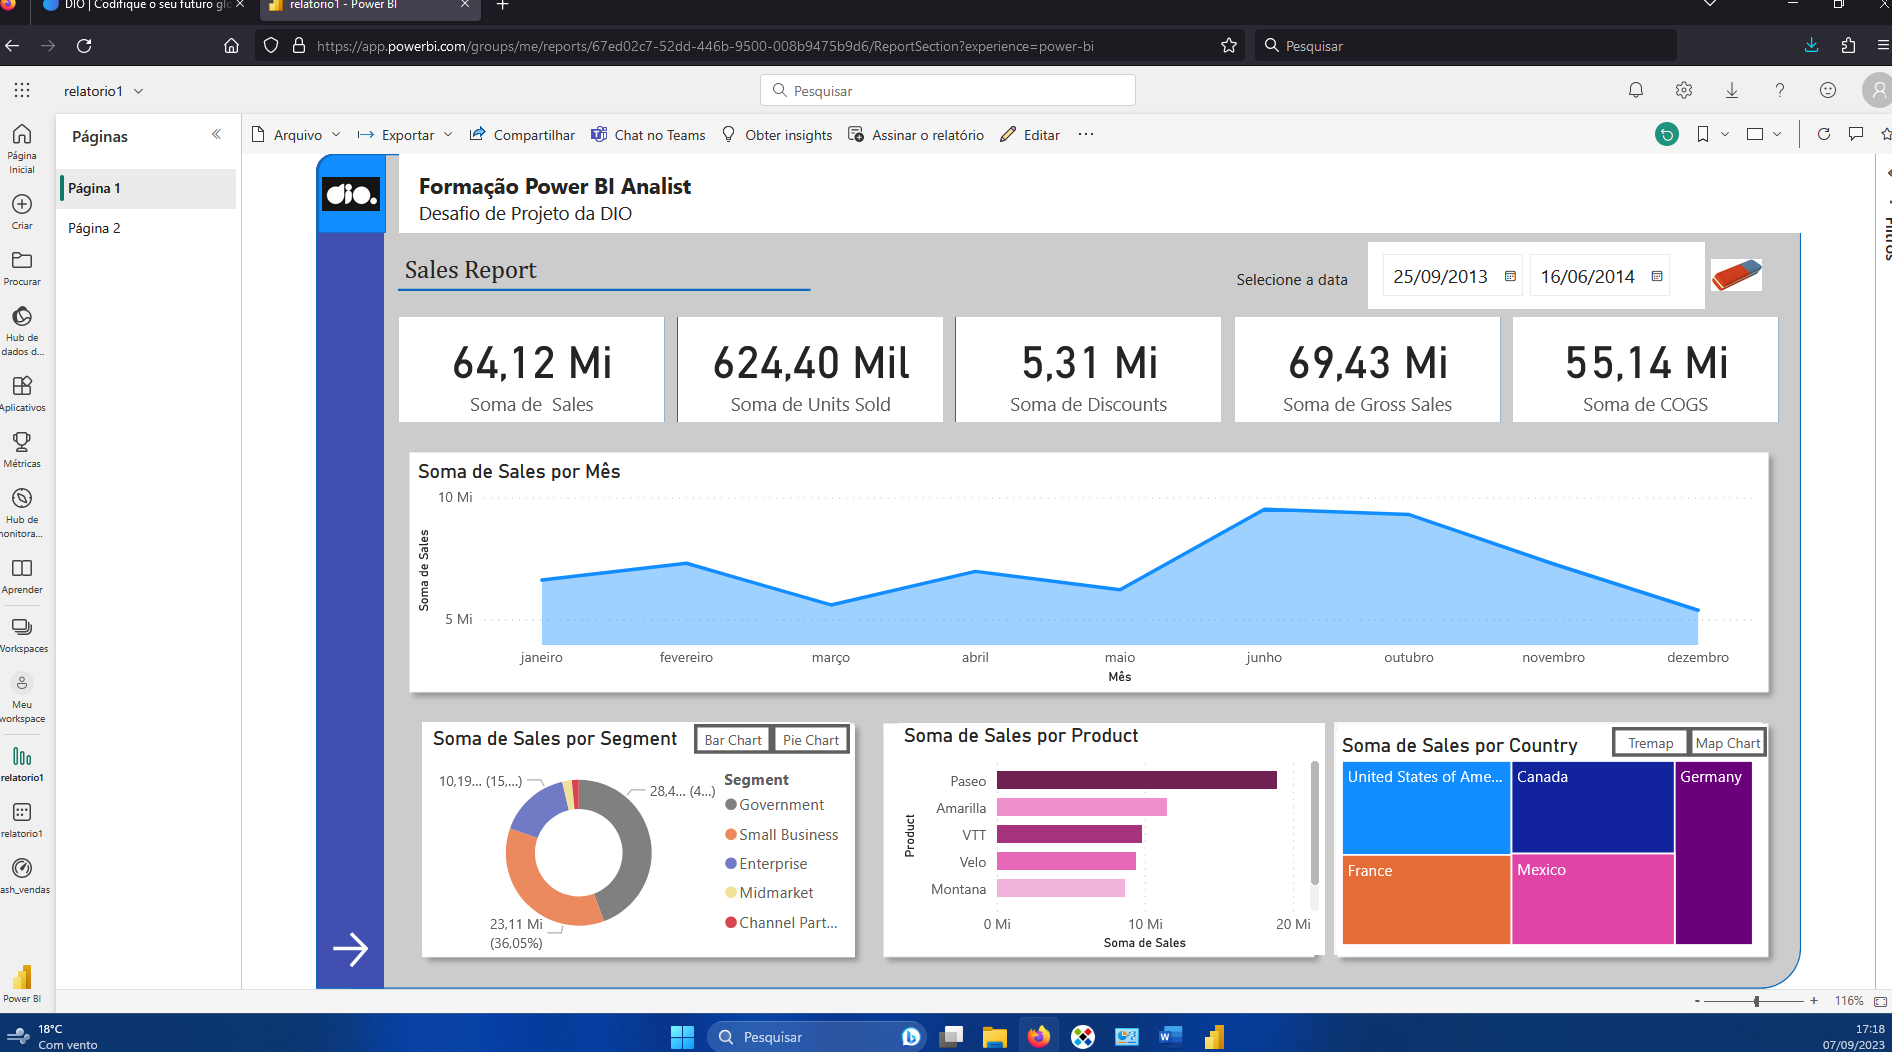

This screenshot's page, from the dashboard's own definition file:
{"tool":"powerbi","page":{"name":"Página 1","canvas":[1280,720],"ordinal":0},"visuals":[{"type":"shape","box":[0,0,1280.6,719.8],"z":0},{"type":"image","title":"logo_dio","box":[0,0,60.3,68.6],"z":0,"group":"g1"},{"type":"card","fields":{"Values":["Sum(financials. Sales)"]},"box":[70.9,140.6,228.6,90.5],"z":0,"group":"g4"},{"type":"clusteredBarChart","fields":{"Y":["Sum(financials. Sales)"],"Category":["financials.Segment"]},"box":[91.7,489.7,369.4,190.1],"z":0,"group":"g2"},{"type":"image","title":"borracha","box":[1198,73.3,53.8,62.3],"z":1000,"group":"g1"},{"type":"card","fields":{"Values":["Sum(financials.Units Sold)"]},"box":[311.7,140.6,228.6,90.5],"z":1000,"group":"g4"},{"type":"donutChart","title":"Soma de  Sales por Segment","fields":{"Category":["financials.Segment"],"Y":["Sum(financials. Sales)"]},"box":[91.7,491.4,369.2,200.5],"z":1000},{"type":"donutChart","fields":{"Category":["financials.Segment"],"Y":["Sum(financials. Sales)"]},"box":[96.2,493.3,369.4,199.3],"z":1000,"group":"g2"},{"type":"treemap","fields":{"Group":["financials.Country"],"Values":["Sum(financials. Sales)"]},"box":[879.9,499.1,364.2,187.7],"z":1000,"group":"g3"},{"type":"actionButton","box":[1117.2,493.9,67.2,25.7],"z":1250,"group":"g3"},{"type":"actionButton","box":[393.6,491.4,67.2,25.7],"z":1500,"group":"g2"},{"type":"actionButton","box":[1184.5,493.9,67.2,25.7],"z":1500,"group":"g3"},{"type":"shape","box":[0,0,59,719.8],"z":2000},{"type":"slicer","fields":{"Values":["financials.Date"]},"box":[907,75.8,290.9,57.5],"z":2000,"group":"g1"},{"type":"card","fields":{"Values":["Sum(financials.Discounts)"]},"box":[551.3,140.6,228.6,90.5],"z":2000,"group":"g4"},{"type":"actionButton","box":[326.3,491.4,67.2,25.7],"z":2000,"group":"g2"},{"type":"actionButton","box":[1200.4,73.3,51.3,57.5],"z":3000,"group":"g1"},{"type":"card","fields":{"Values":["Sum(financials.Gross Sales)"]},"box":[792.1,140.6,228.6,90.5],"z":3000,"group":"g4"},{"type":"map","fields":{"Category":["financials.Country"],"Size":["Sum(financials. Sales)"]},"box":[877.7,490.2,369.2,200.5],"z":3000},{"type":"shape","box":[1.4,0,59,68.6],"z":4000},{"type":"card","fields":{"Values":["Sum(financials.COGS)"]},"box":[1031.7,140.6,228.6,90.5],"z":4000,"group":"g4"},{"type":"shape","box":[71.3,0,1209.3,68.6],"z":5000},{"type":"textbox","box":[83.6,9.6,889.8,59],"z":6000},{"type":"shape","box":[71.3,140.2,229,90.5],"z":7000},{"type":"shape","box":[311.2,140.2,229,90.5],"z":8000},{"type":"shape","box":[551.2,140.2,229,90.5],"z":9000},{"type":"shape","box":[792.5,140.2,229,90.5],"z":10000},{"type":"shape","box":[1032.4,140.2,229,90.5],"z":11000},{"type":"textbox","box":[71.3,82.3,682.8,43.9],"z":12000},{"type":"shape","box":[70.9,94.1,355.7,46.5],"z":13000},{"type":"shape","box":[71.3,248.2,1190.1,224.9],"z":14000},{"type":"shape","box":[83.7,481.8,389.8,219.6],"z":15000},{"type":"shape","box":[480.4,481.8,389.8,219.6],"z":16000},{"type":"shape","box":[871.5,481.8,389.8,219.6],"z":17000},{"type":"areaChart","fields":{"Category":["financials.Date.Variation.Hierarquia de datas.Mês"],"Y":["Sum(financials. Sales)"]},"box":[83.1,262.8,1163.7,198],"z":18000},{"type":"clusteredBarChart","fields":{"Y":["Sum(financials. Sales)"],"Category":["financials.Product"]},"box":[501.8,490.7,368.4,200.2],"z":19000},{"type":"textbox","box":[640.5,94.1,254.3,31.8],"z":20000},{"type":"group","id":"g1","title":"filtro_por_data","box":[0,0,1251.7,135.7],"z":21000},{"type":"group","id":"g2","title":"sales-Segment","box":[91.7,489.7,373.9,203],"z":22000},{"type":"group","id":"g3","title":"salesCountry","box":[878.8,493.9,372.9,192.9],"z":23000},{"type":"group","id":"g4","title":"cartoes","box":[8.3,140.6,1252,565.6],"z":24000},{"type":"actionButton","box":[8.3,665.9,100.1,40.3],"z":24001,"group":"g4"}]}

Visuals, with their boxes on the page's 1280x720 design canvas (x1, y1, x2, y2). These are canvas units, not pixel positions in the 1892x1052 screenshot, which may show the page scaled, cropped or inside an application window:
shape: locate(0, 0, 1281, 720)
"logo_dio" image: locate(0, 0, 60, 69)
card - Sum(financials. Sales): locate(71, 141, 300, 231)
clusteredBarChart - Sum(financials. Sales) x financials.Segment: locate(92, 490, 461, 680)
"borracha" image: locate(1198, 73, 1252, 136)
card - Sum(financials.Units Sold): locate(312, 141, 540, 231)
"Soma de  Sales por Segment" donutChart: locate(92, 491, 461, 692)
donutChart - financials.Segment x Sum(financials. Sales): locate(96, 493, 466, 693)
treemap - financials.Country x Sum(financials. Sales): locate(880, 499, 1244, 687)
actionButton: locate(1117, 494, 1184, 520)
actionButton: locate(394, 491, 461, 517)
actionButton: locate(1184, 494, 1252, 520)
shape: locate(0, 0, 59, 720)
slicer - financials.Date: locate(907, 76, 1198, 133)
card - Sum(financials.Discounts): locate(551, 141, 780, 231)
actionButton: locate(326, 491, 394, 517)
actionButton: locate(1200, 73, 1252, 131)
card - Sum(financials.Gross Sales): locate(792, 141, 1021, 231)
map - financials.Country x Sum(financials. Sales): locate(878, 490, 1247, 691)
shape: locate(1, 0, 60, 69)
card - Sum(financials.COGS): locate(1032, 141, 1260, 231)
shape: locate(71, 0, 1281, 69)
textbox: locate(84, 10, 973, 69)
shape: locate(71, 140, 300, 231)
shape: locate(311, 140, 540, 231)
shape: locate(551, 140, 780, 231)
shape: locate(792, 140, 1022, 231)
shape: locate(1032, 140, 1261, 231)
textbox: locate(71, 82, 754, 126)
shape: locate(71, 94, 427, 141)
shape: locate(71, 248, 1261, 473)
shape: locate(84, 482, 474, 701)
shape: locate(480, 482, 870, 701)
shape: locate(872, 482, 1261, 701)
areaChart - financials.Date.Variation.Hierarquia de datas.Mês x Sum(financials. Sales): locate(83, 263, 1247, 461)
clusteredBarChart - Sum(financials. Sales) x financials.Product: locate(502, 491, 870, 691)
textbox: locate(640, 94, 895, 126)
"filtro_por_data" group: locate(0, 0, 1252, 136)
"sales-Segment" group: locate(92, 490, 466, 693)
"salesCountry" group: locate(879, 494, 1252, 687)
"cartoes" group: locate(8, 141, 1260, 706)
actionButton: locate(8, 666, 108, 706)
